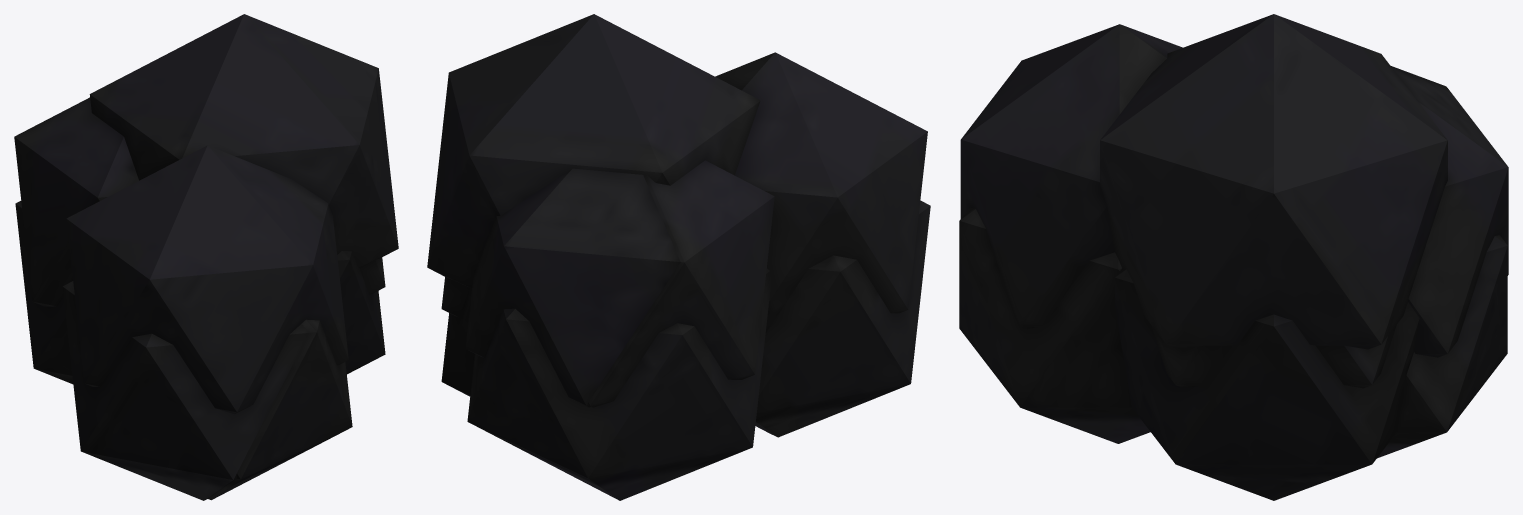
Rendered from carbon_monton.glb.
3 views of the same model, side by side, from view 1: azimuth 30°, elevation 25°; view 2: azimuth 150°, elevation 25°; view 3: azimuth 270°, elevation 25° (orthographic). The views are drawn at different scales.
Visible parts, largest first — view 1: carbon_monton; view 2: carbon_monton; view 3: carbon_monton.
Boxes of the visible parts, bbox=[...] form: carbon_monton: bbox=[14, 14, 398, 500]; carbon_monton: bbox=[427, 14, 930, 500]; carbon_monton: bbox=[959, 14, 1508, 500].
Size of the model in its own units: 0.8444 by 0.92 by 0.9402.
1 material, 1 textured.
